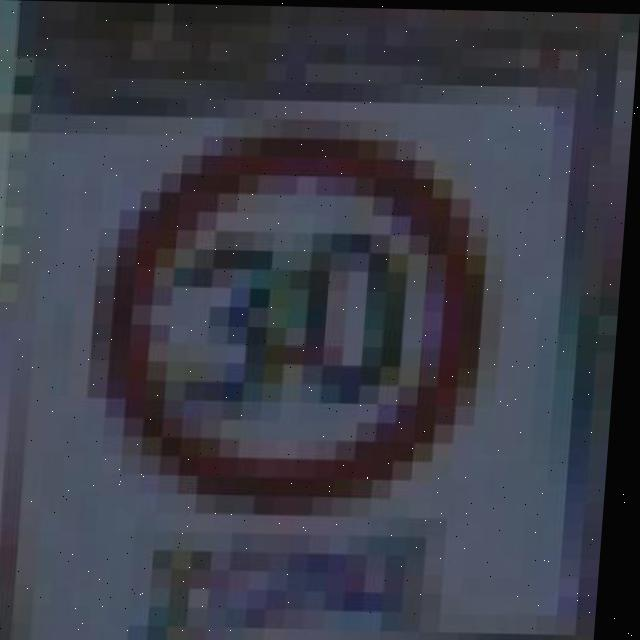Speed limit 30: (87, 125, 503, 511)
